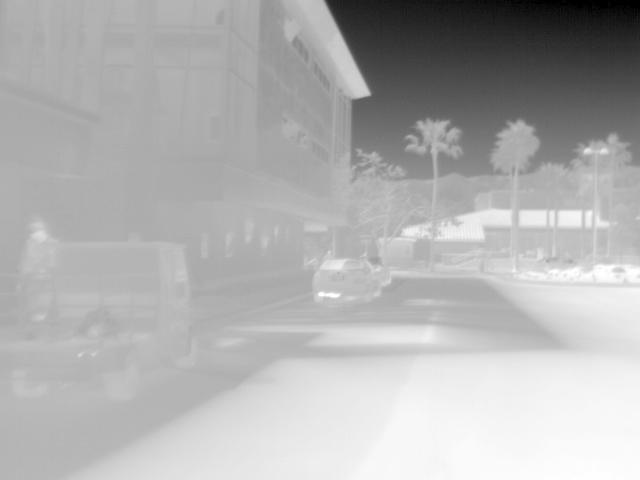car: (313, 254, 383, 303), (367, 255, 394, 287), (532, 255, 579, 272)
person: (14, 216, 59, 294)
